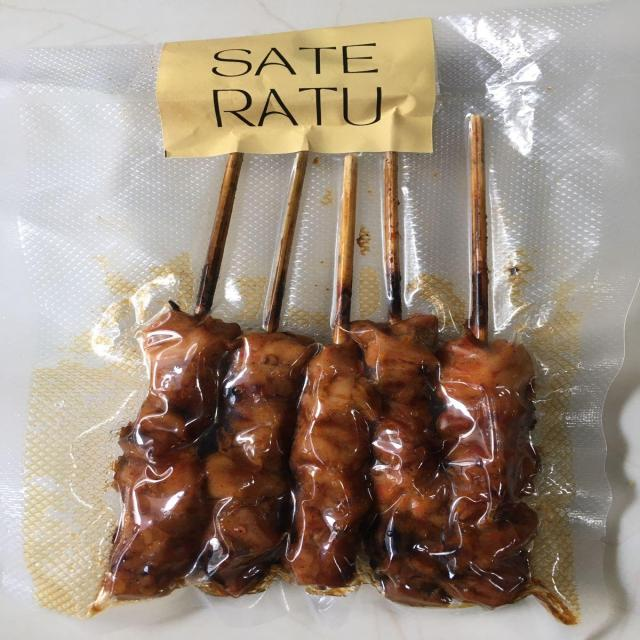Sate: (103, 119, 572, 623)
